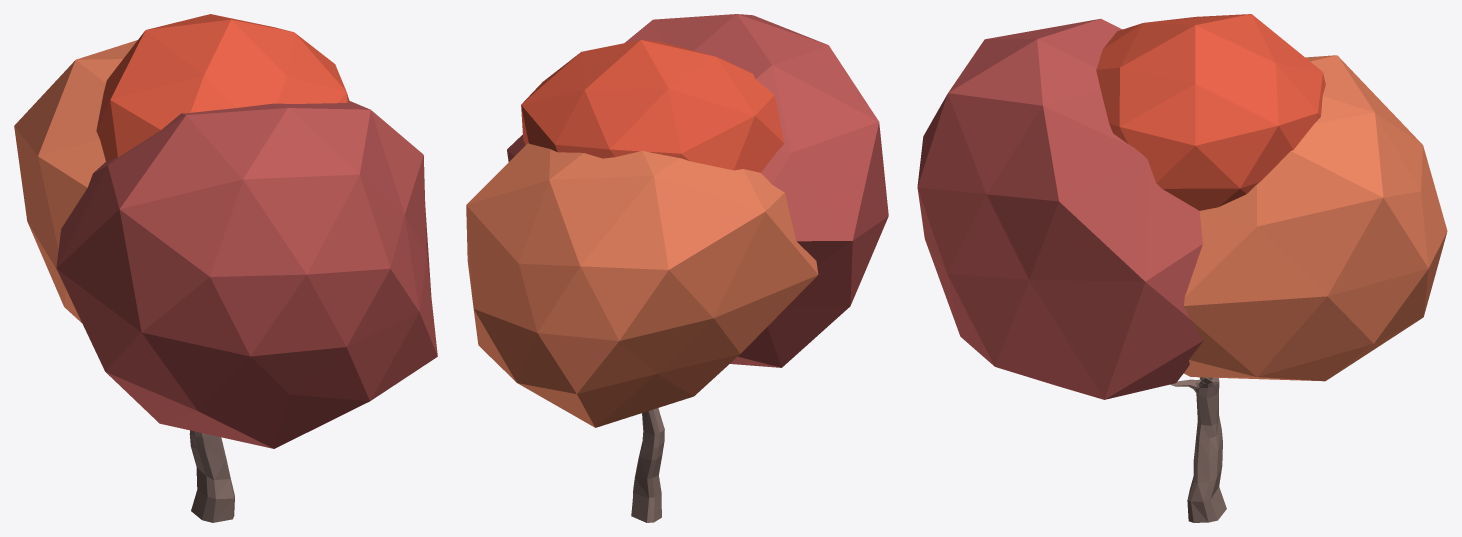
The model's file is RedOak.dae.
The picture shows the model from 3 angles, left to right: view 1: azimuth 30°, elevation 25°; view 2: azimuth 150°, elevation 25°; view 3: azimuth 270°, elevation 25°; orthographic projection. The views are drawn at different scales.
Parts seen in each view (by area): view 1: Icosphere.001, Icosphere.002, Icosphere, Cube; view 2: Icosphere, Icosphere.001, Icosphere.002, Cube; view 3: Icosphere.001, Icosphere, Icosphere.002, Cube.
Part boxes in pixels (bbox=[...]): Icosphere.001: bbox=[56, 101, 437, 448]; Icosphere.002: bbox=[96, 14, 349, 161]; Icosphere: bbox=[14, 40, 137, 322]; Cube: bbox=[189, 430, 234, 522]; Icosphere: bbox=[466, 143, 818, 427]; Icosphere.001: bbox=[507, 14, 888, 367]; Icosphere.002: bbox=[521, 40, 784, 172]; Cube: bbox=[631, 408, 664, 522]; Icosphere.001: bbox=[917, 18, 1203, 399]; Icosphere: bbox=[1183, 55, 1447, 381]; Icosphere.002: bbox=[1096, 14, 1325, 210]; Cube: bbox=[1170, 377, 1226, 522].
Bounding box in the file's own units: 9.49 × 11.88 × 12.31.
